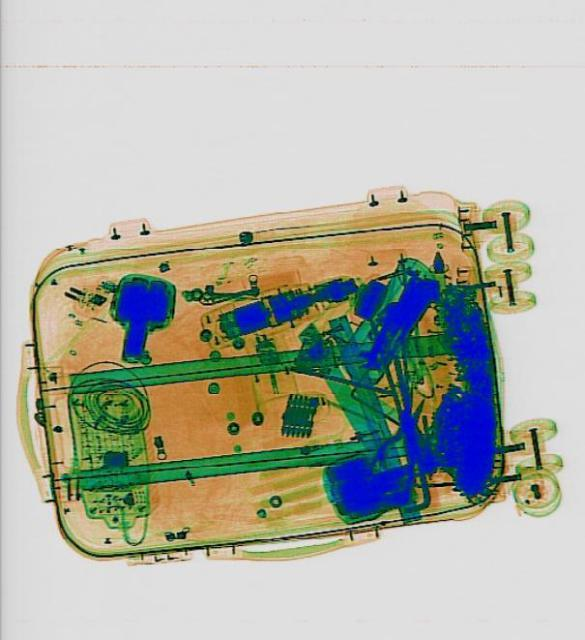Pliers: (366, 383, 444, 482)
